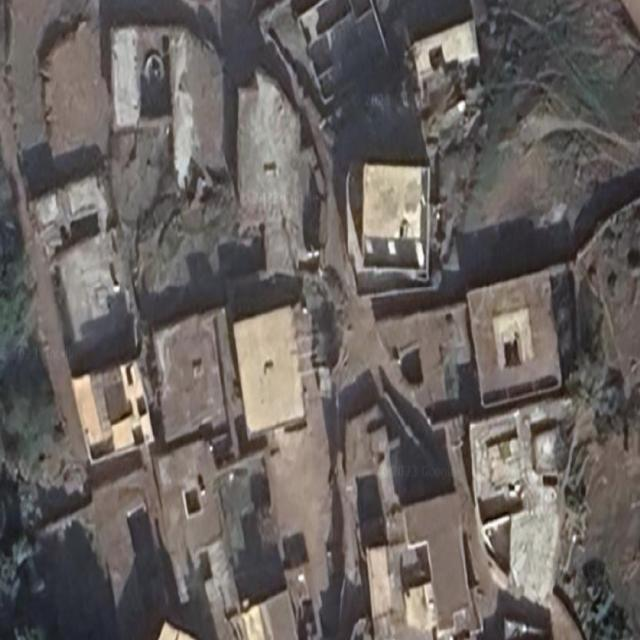Countryside roofs: (460, 263, 570, 421), (103, 6, 205, 162), (346, 130, 441, 295), (47, 218, 146, 364), (342, 535, 464, 635), (68, 359, 170, 475), (147, 288, 226, 435), (225, 306, 306, 429), (162, 439, 228, 570), (407, 6, 489, 94)
